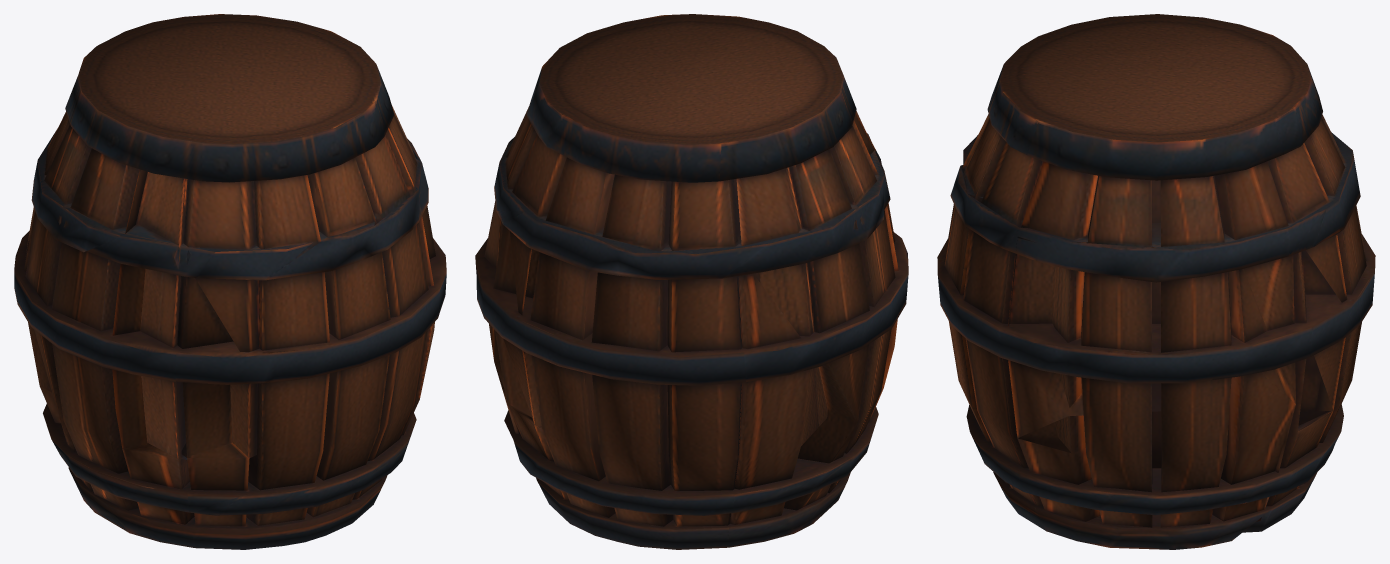
File: barrel.glb
The picture shows the model from 3 angles, left to right: view 1: azimuth 30°, elevation 25°; view 2: azimuth 150°, elevation 25°; view 3: azimuth 270°, elevation 25°; orthographic projection.
Bounding box in the file's own units: 0.9067 × 0.9526 × 0.9233.
Materials: 1 (1 with a texture image).
